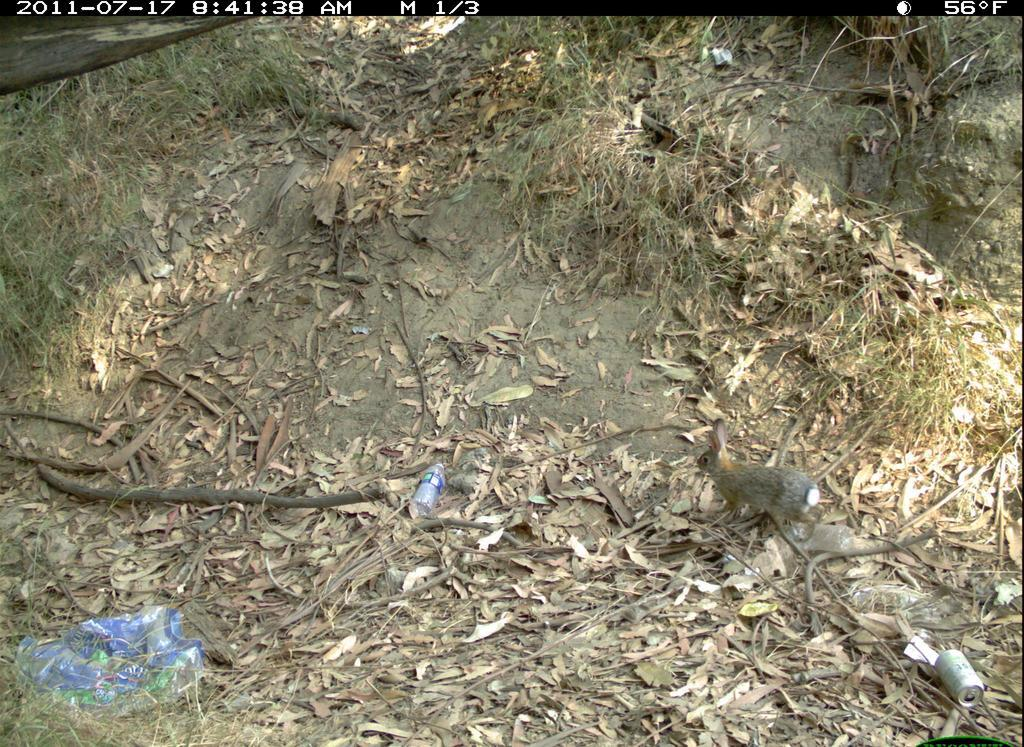rabbit: (690, 417, 831, 544)
